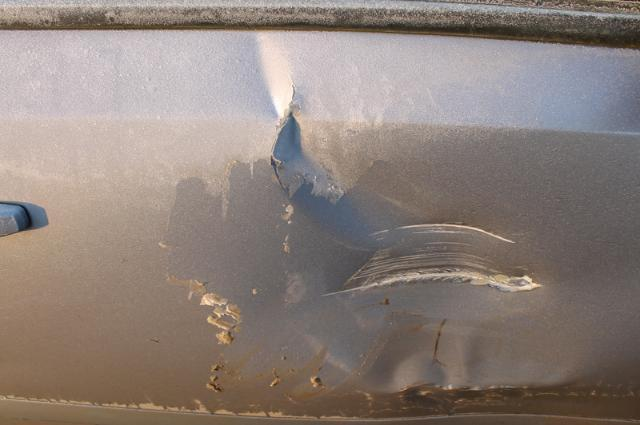Door: (0, 19, 640, 425)
